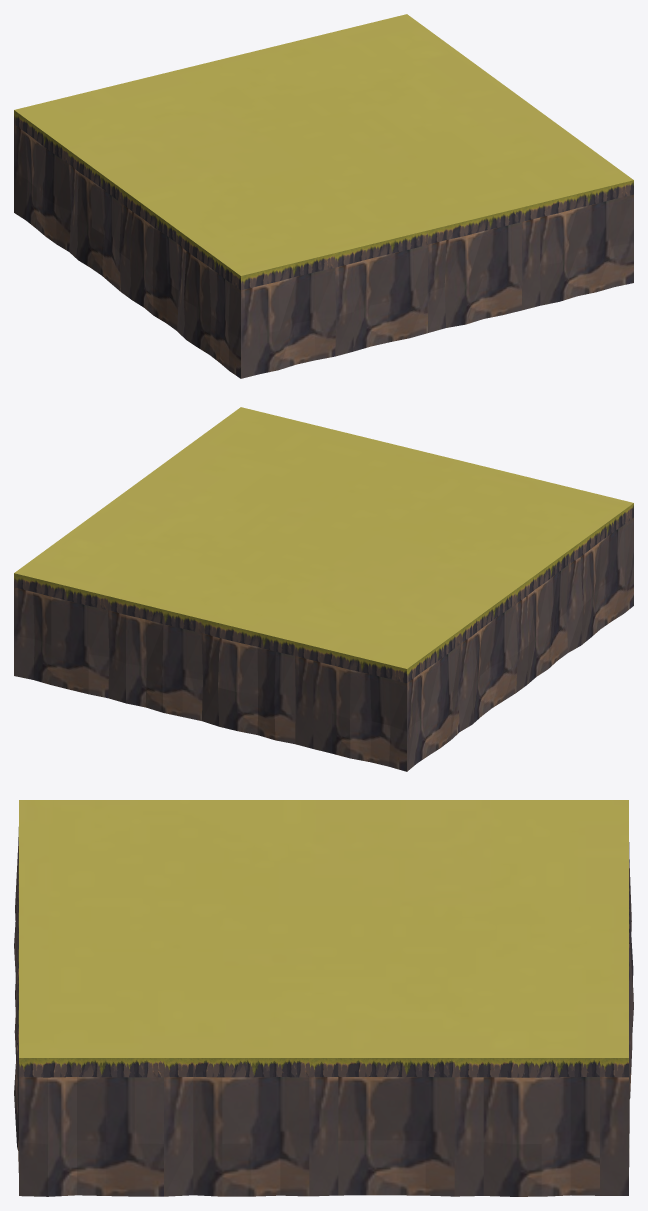
File: SM_RC_Terrain_Plateau_32x32x8.gltf
3 views of the same model, one above another, from view 1: azimuth 30°, elevation 25°; view 2: azimuth 150°, elevation 25°; view 3: azimuth 270°, elevation 25° (orthographic). The views are drawn at different scales.
Parts seen in each view (by area): view 1: SM_RC_Terrain_Plateau_32x32x8; view 2: SM_RC_Terrain_Plateau_32x32x8; view 3: SM_RC_Terrain_Plateau_32x32x8.
Part boxes in pixels (x1=…): SM_RC_Terrain_Plateau_32x32x8: x1=14, y1=14, x2=633, y2=378; SM_RC_Terrain_Plateau_32x32x8: x1=14, y1=407, x2=633, y2=771; SM_RC_Terrain_Plateau_32x32x8: x1=14, y1=800, x2=633, y2=1196.
Bounding box in the file's own units: 32.53 × 8 × 32.52.
Materials: 1 (1 with a texture image).
